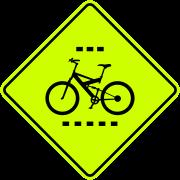Cycle Crossing: (11, 7, 162, 166)
